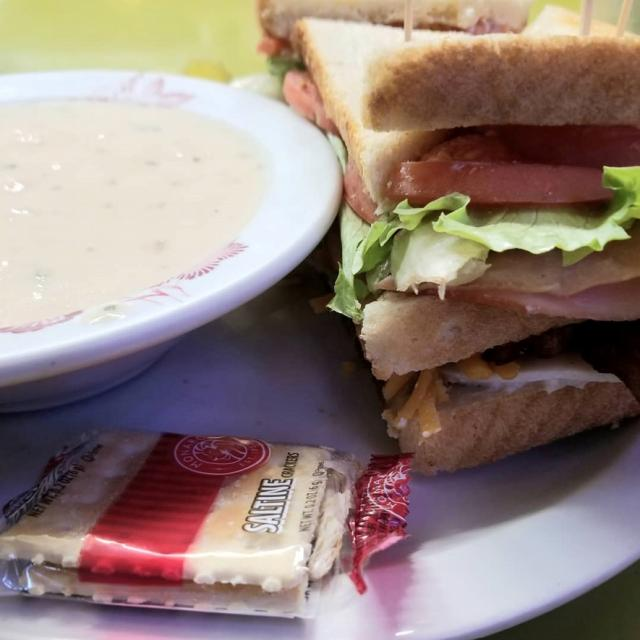Sandwich: (253, 1, 639, 492)
